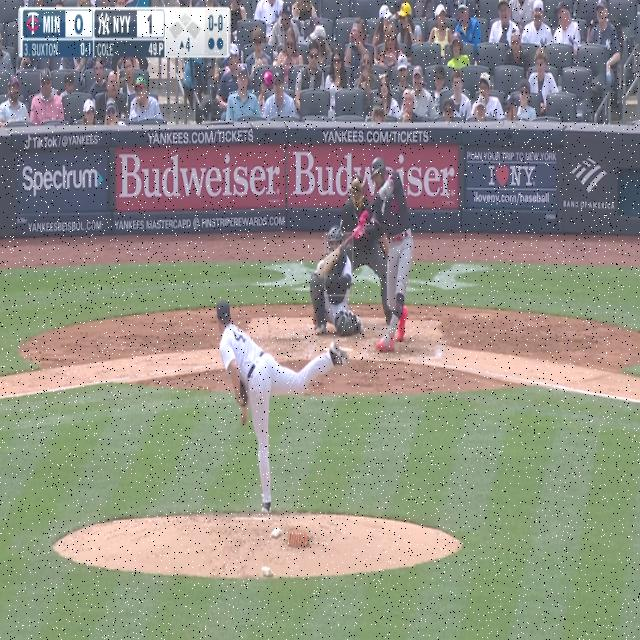baseball: (318, 258, 326, 272)
